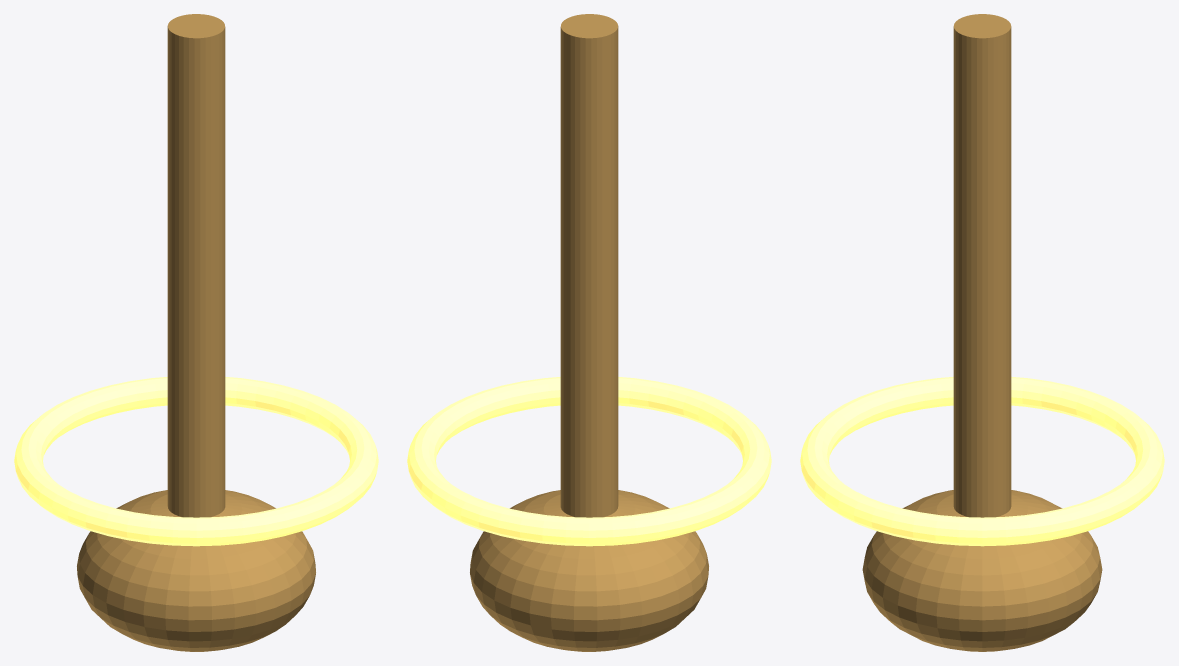
The model's file is GoldenPlunger.glb.
3 renders of one model, left to right at view 1: azimuth 30°, elevation 25°; view 2: azimuth 150°, elevation 25°; view 3: azimuth 270°, elevation 25°, orthographic.
Parts seen in each view (by area): view 1: Plunger_Handle, Plunger_Cup, Plunger_GlowRing; view 2: Plunger_Handle, Plunger_Cup, Plunger_GlowRing; view 3: Plunger_Handle, Plunger_Cup, Plunger_GlowRing.
Part boxes in pixels (x1,y1,x2,y2): Plunger_Handle: [167, 14, 225, 517]; Plunger_Cup: [77, 490, 315, 651]; Plunger_GlowRing: [14, 377, 378, 546]; Plunger_Handle: [560, 14, 618, 517]; Plunger_Cup: [470, 490, 708, 651]; Plunger_GlowRing: [407, 377, 771, 546]; Plunger_Handle: [953, 14, 1011, 517]; Plunger_Cup: [862, 490, 1102, 651]; Plunger_GlowRing: [800, 376, 1164, 546].
Bounding box in the file's own units: 0.76 × 1.4 × 0.76.
